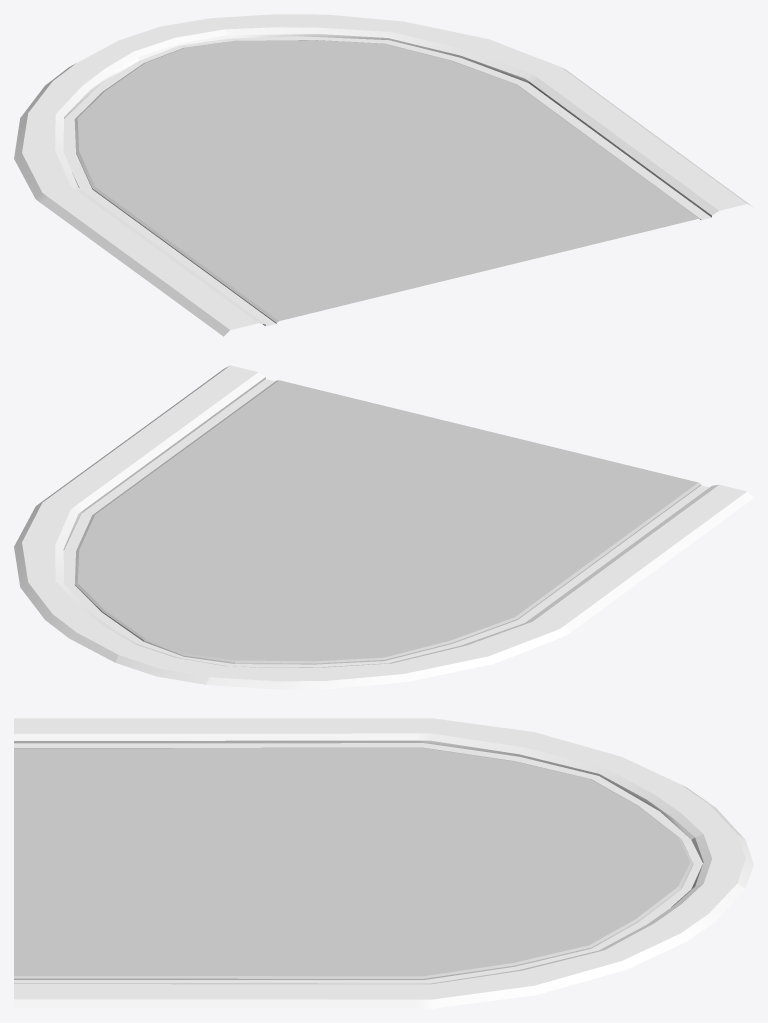
Rendered from road_end_small.fbx.
3 views of the same model, one above another, from view 1: azimuth 30°, elevation 25°; view 2: azimuth 150°, elevation 25°; view 3: azimuth 270°, elevation 25° (orthographic). The views are drawn at different scales.
Visible parts, largest first — view 1: road_end_small; view 2: road_end_small; view 3: road_end_small.
Part boxes in pixels (<box>): road_end_small: <box>14,14,752,336</box>; road_end_small: <box>14,365,753,689</box>; road_end_small: <box>14,718,753,1008</box>.
Bounding box in the file's own units: 3.73 × 0.0341 × 4.05.
